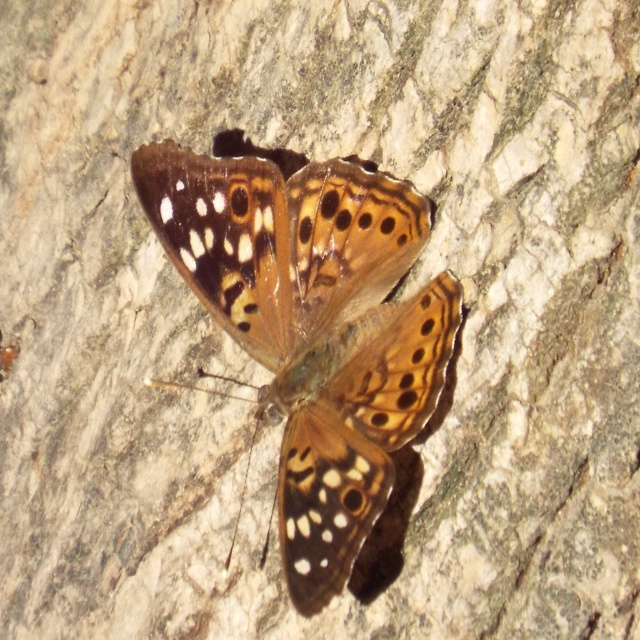Butterfly: (111, 119, 464, 615)
